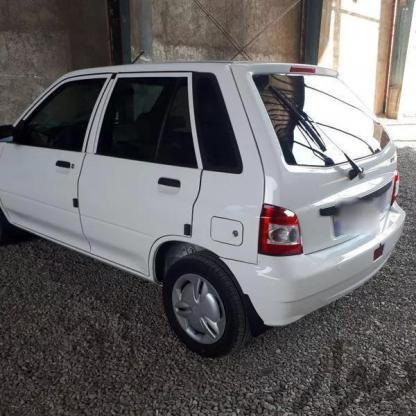Car: (0, 60, 403, 352)
